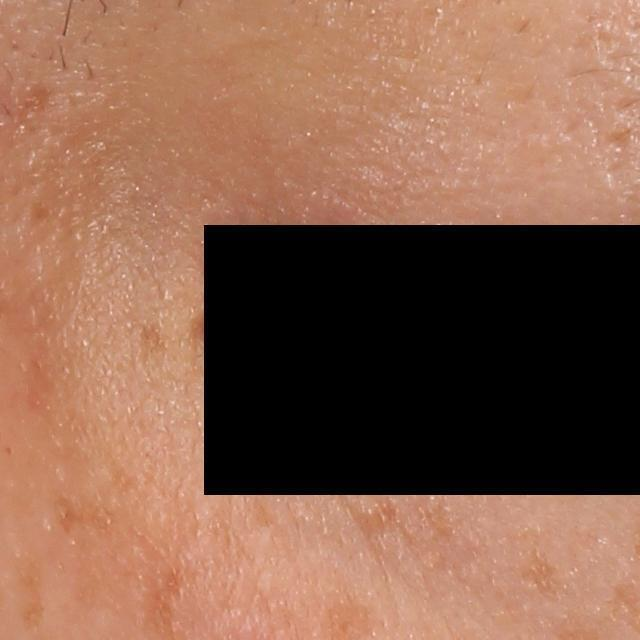melasma: (44, 488, 123, 539), (513, 545, 577, 606), (16, 552, 54, 636), (350, 498, 402, 546)
